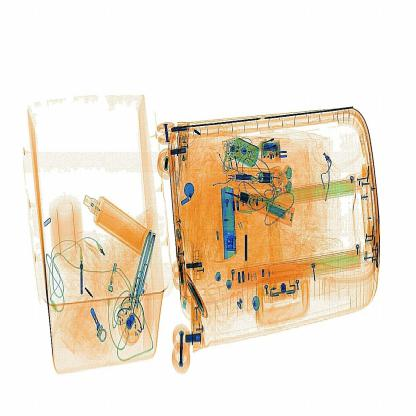pliers: (211, 177, 247, 267)
